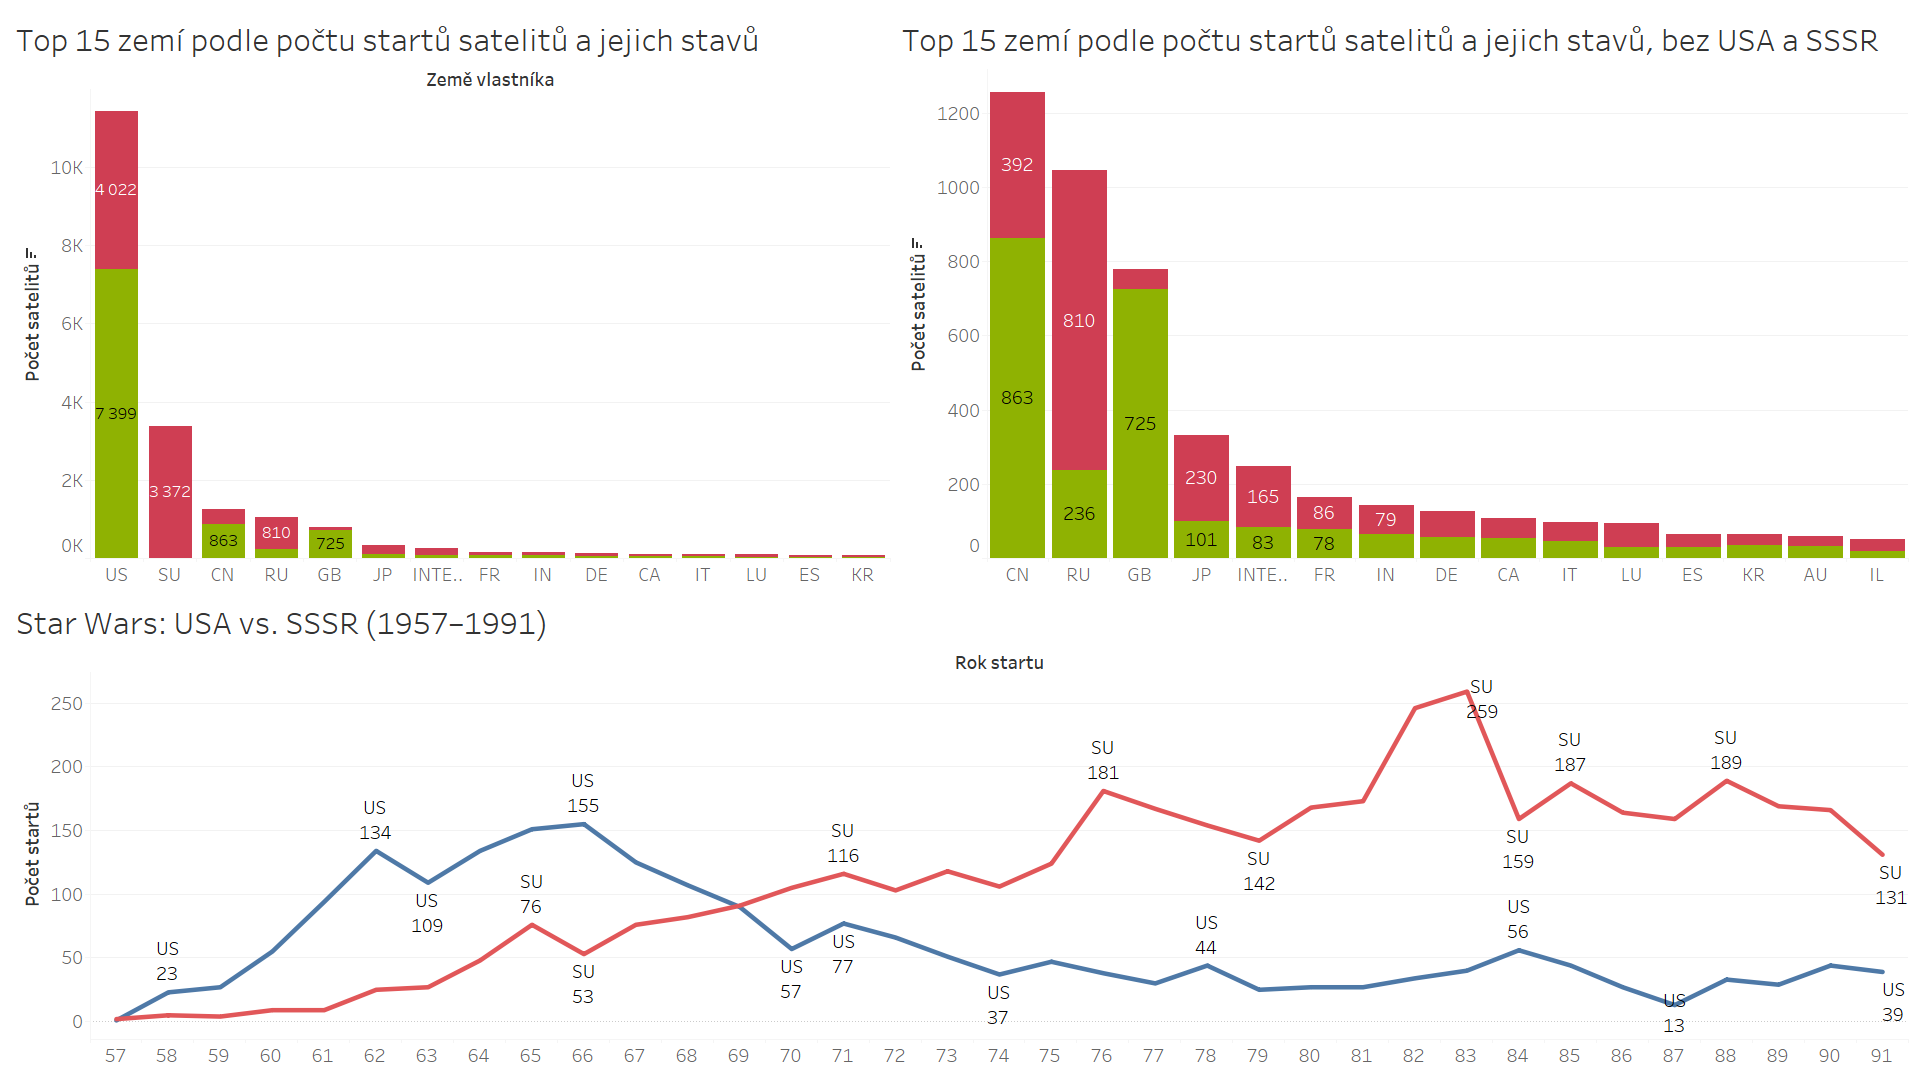

What the dashboard file says about the page in this screenshot:
{"tool":"tableau","page":{"name":"Dashboard 2","canvas":[1920,1080],"ordinal":1},"visuals":[{"type":"worksheet","title":"Top 15 zemí podle počtu startů satelitů a jejich stavů","mark":"Automatic","rows":["Calculation_2840926955092996099"],"cols":["OWNER_COUNTRY"],"box":[8,8,886,582.9]},{"type":"worksheet","title":"Top 15 zemí podle počtu startů satelitů a jejich stavů, bez USA a SSSR ","mark":"Automatic","rows":["Calculation_2840926955092996099"],"cols":["OWNER_COUNTRY"],"box":[894,8,1018,582.9]},{"type":"worksheet","title":"Star Wars: USA vs. SSSR (1957–1991)","mark":"Automatic","rows":["Calculation_2840926955089989634"],"cols":["DATE_OF_LAUNCH"],"box":[8,590.9,1904,481.1]}]}

Visuals, with their boxes in screenshot pixels (x1, y1, x2, y2), scaled from the page's 1920x1080 canvas onto the 1920x1080 screenshot:
"Top 15 zemí podle počtu startů satelitů a jejich stavů" worksheet: box=[8, 8, 894, 591]
"Top 15 zemí podle počtu startů satelitů a jejich stavů, bez USA a SSSR " worksheet: box=[894, 8, 1912, 591]
"Star Wars: USA vs. SSSR (1957–1991)" worksheet: box=[8, 591, 1912, 1072]
